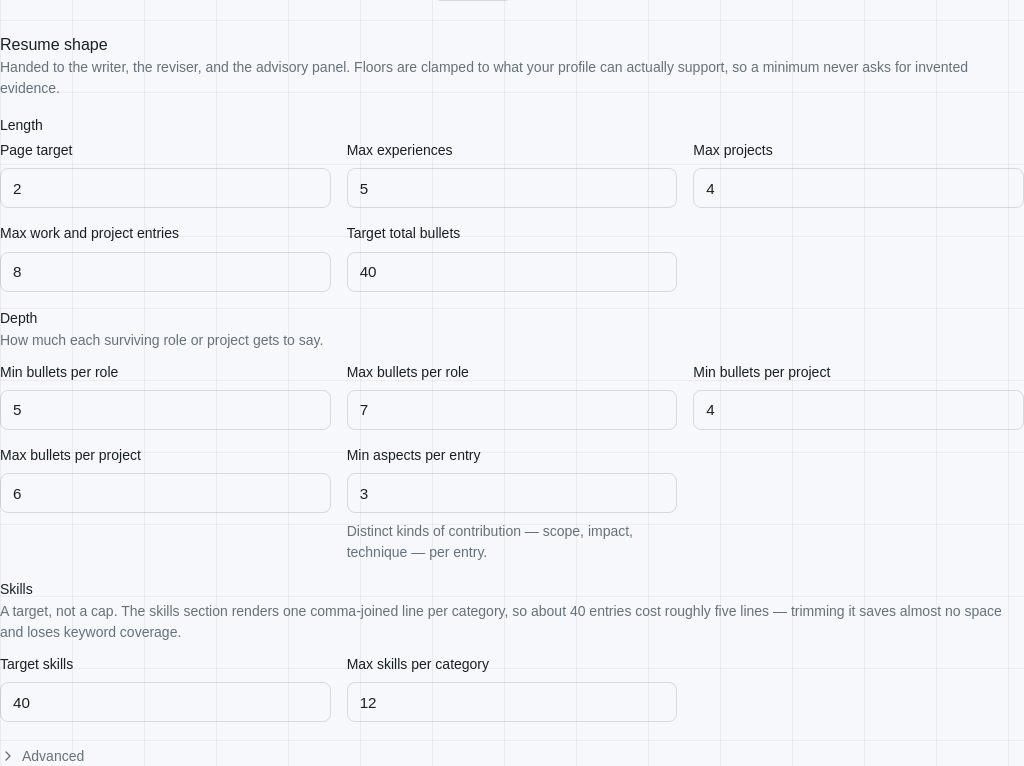
Test: ReviewSettingsPage resume shape › blocks saving an inverted bullet range instead of letting the server 422
This screenshot has width=1024, height=766.
(page scrolled)
Replace the text in the number field labelled "Min bullets per role" with "9". click: (165, 410)
box: [0,390,331,430]
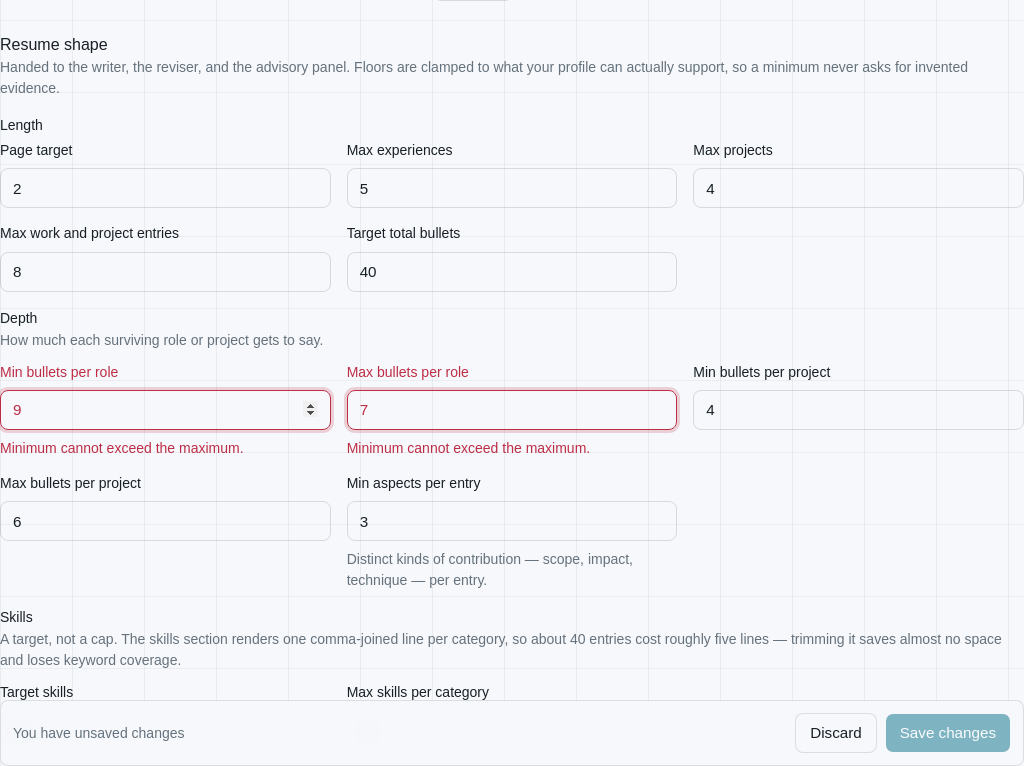
Expected: the button "Save changes" is disabled, [885,713,1011,753]
Expected: the text "Minimum cannot exceed the maximum." below "Min bullets per role" is shown, [0,440,244,456]
